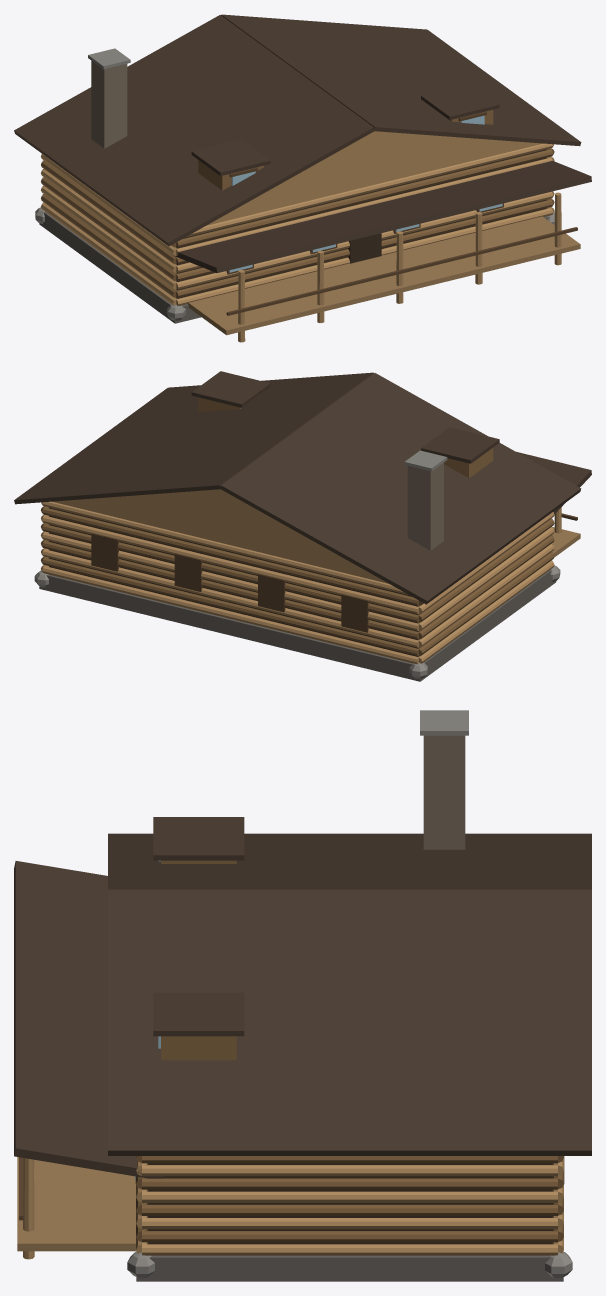
File: lodge_colter.glb
3 renders of one model, top to bottom at view 1: azimuth 30°, elevation 25°; view 2: azimuth 150°, elevation 25°; view 3: azimuth 270°, elevation 25°, orthographic. The views are drawn at different scales.
Visible parts, largest first — view 1: roof, porch, logwall (×2), chimney, foundation, lodge_colter, dormer_0, dormer_2, door; view 2: roof, logwall (×2), foundation, lodge_colter, chimney, dormer_0, dormer_2, porch; view 3: roof, porch, logwall, foundation, lodge_colter, chimney, dormer_2, dormer_0.
Part boxes in pixels (x1,y1,x2,y2): roof: (14, 14, 581, 246); porch: (174, 161, 591, 342); logwall (×2): (41, 143, 552, 305); chimney: (88, 48, 130, 148); foundation: (35, 207, 554, 323); lodge_colter: (176, 149, 546, 298); dormer_0: (191, 139, 270, 190); dormer_2: (421, 83, 499, 124); door: (348, 233, 381, 263); roof: (14, 372, 581, 604); logwall (×2): (42, 501, 554, 664); foundation: (34, 565, 560, 681); lodge_colter: (49, 507, 418, 656); chimney: (404, 450, 447, 550); dormer_0: (421, 427, 499, 477); dormer_2: (191, 371, 270, 412); porch: (516, 451, 591, 557); roof: (108, 833, 591, 1155); porch: (14, 861, 163, 1259); logwall: (142, 1156, 557, 1255); foundation: (127, 1251, 572, 1281); lodge_colter: (135, 1156, 564, 1244); chimney: (420, 710, 468, 849); dormer_2: (153, 992, 244, 1060); dormer_0: (153, 817, 244, 863).
Size of the model in its own units: 19.85 by 8.57 by 15.29.
